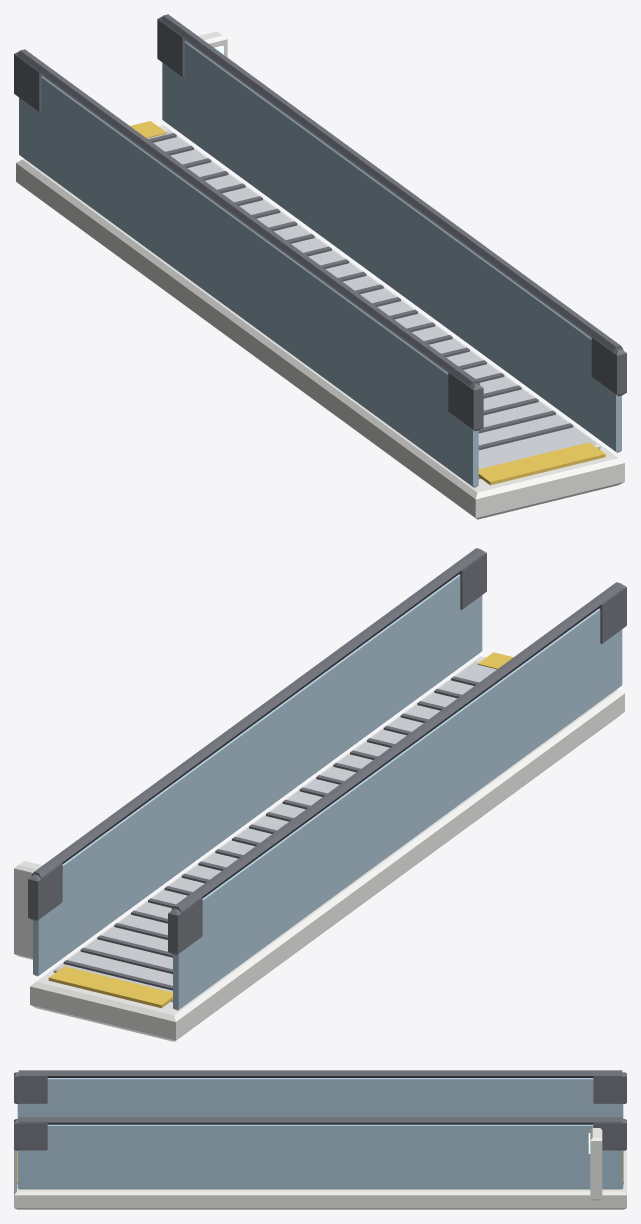
The model's file is airport-terminal-and-ground-operations-travelator-sect-0ad01a8b__26049.glb.
3 renders of one model, top to bottom at view 1: azimuth 30°, elevation 25°; view 2: azimuth 150°, elevation 25°; view 3: azimuth 270°, elevation 25°, orthographic. The views are drawn at different scales.
Parts seen in each view (by area): view 1: travelator-section; view 2: travelator-section; view 3: travelator-section.
Boxes of the visible parts, <box> form: travelator-section: <box>14,14,626,519</box>; travelator-section: <box>14,548,626,1041</box>; travelator-section: <box>14,1070,626,1209</box>.
Bounding box in the file's own units: 1.87 × 1.32 × 8.
